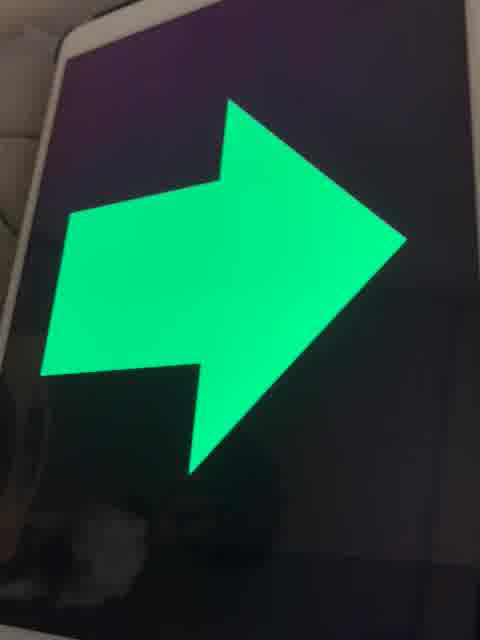right: (35, 88, 410, 486)
